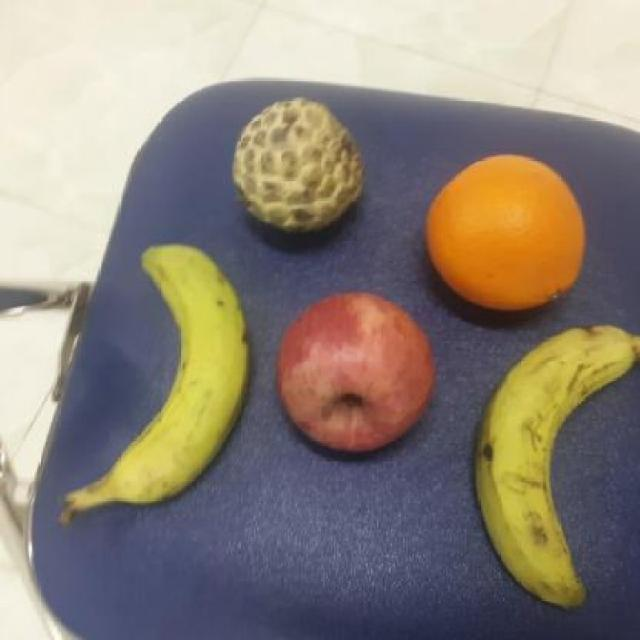apple: (270, 290, 438, 458)
banana: (470, 322, 628, 609), (100, 237, 254, 508)
oren: (425, 152, 590, 316)
sugar apple: (226, 94, 366, 238)
